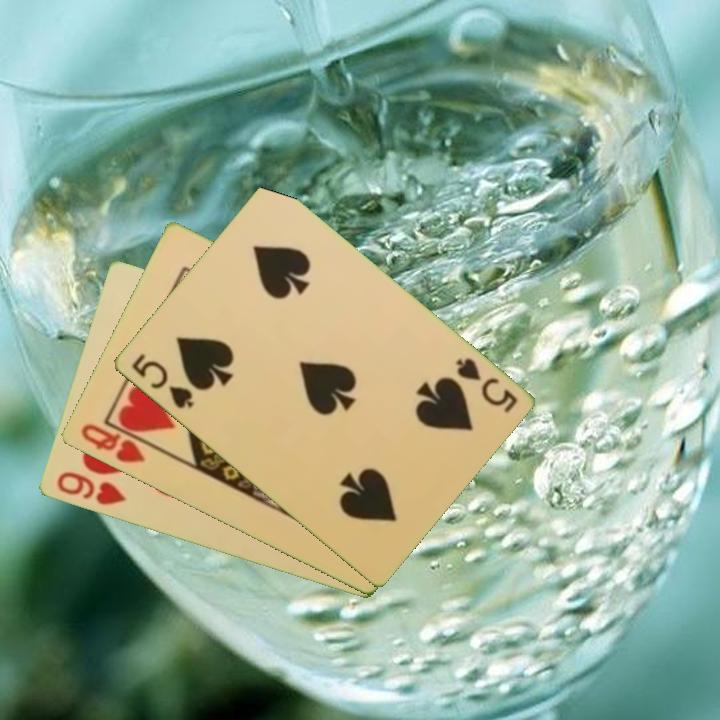5s: (127, 349, 197, 412), (451, 354, 520, 416)
9h: (52, 468, 129, 509)
Qh: (76, 419, 158, 467)
